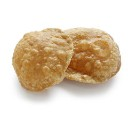poori: (13, 27, 73, 92), (60, 25, 121, 83)
